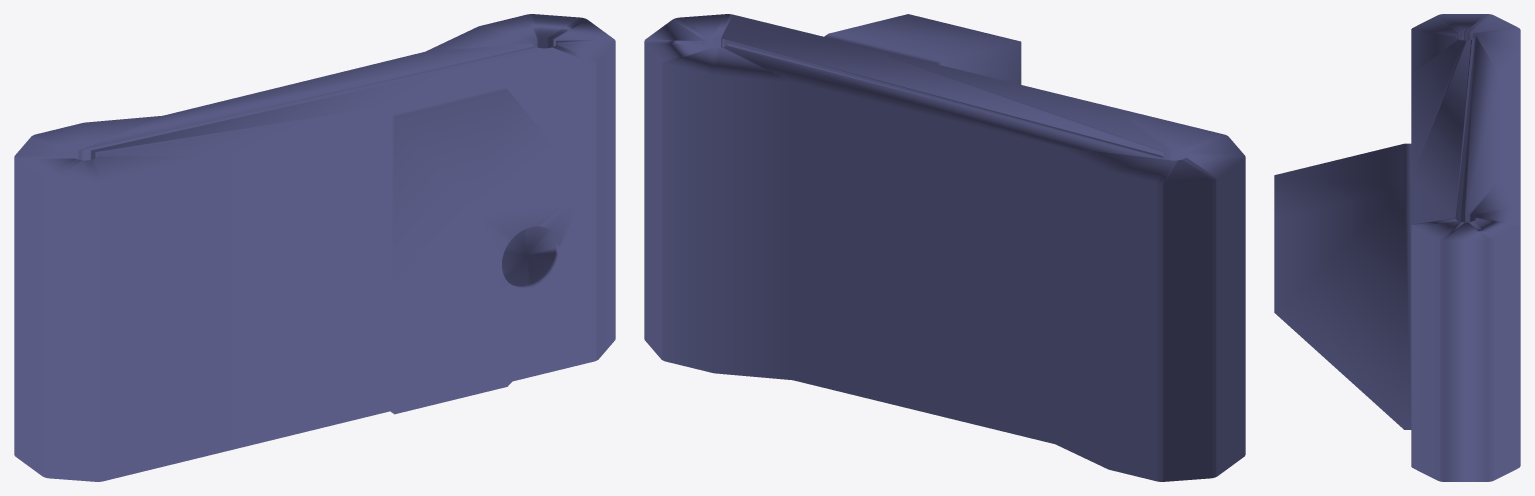
File: rosi_base.dae
The picture shows the model from 3 angles, left to right: view 1: azimuth 30°, elevation 25°; view 2: azimuth 150°, elevation 25°; view 3: azimuth 270°, elevation 25°; orthographic projection. The views are drawn at different scales.
Parts seen in each view (by area): view 1: Node_0x7fcd4bf36740; view 2: Node_0x7fcd4bf36740; view 3: Node_0x7fcd4bf36740.
Part boxes in pixels (x1,y1,x2,y2): Node_0x7fcd4bf36740: (14, 14, 615, 481); Node_0x7fcd4bf36740: (644, 14, 1245, 481); Node_0x7fcd4bf36740: (1274, 14, 1520, 481).
Size of the model in its own units: 0.784 by 0.39 by 0.36.
